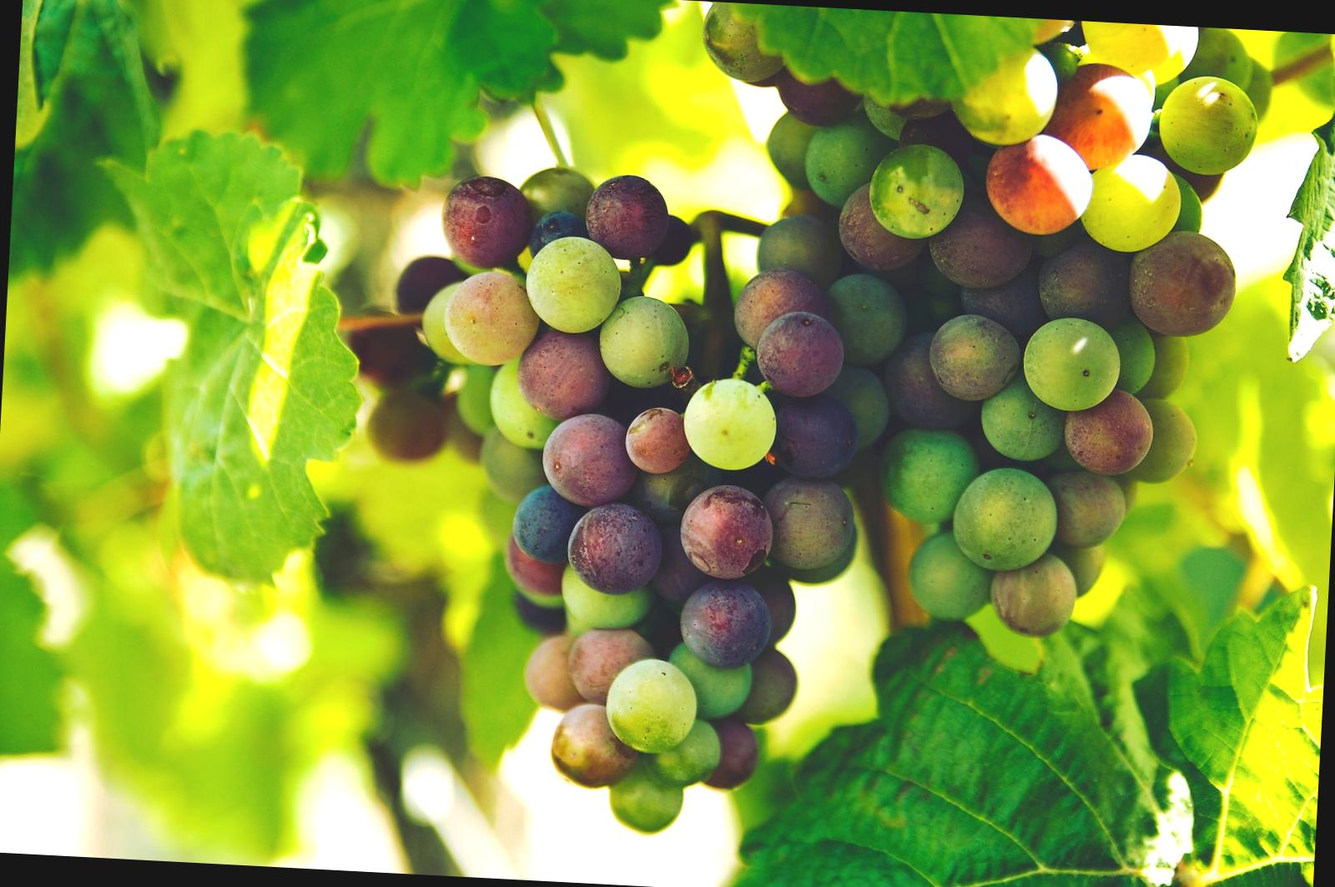Grape Unripe: (437, 173, 817, 804), (840, 69, 1167, 644)
